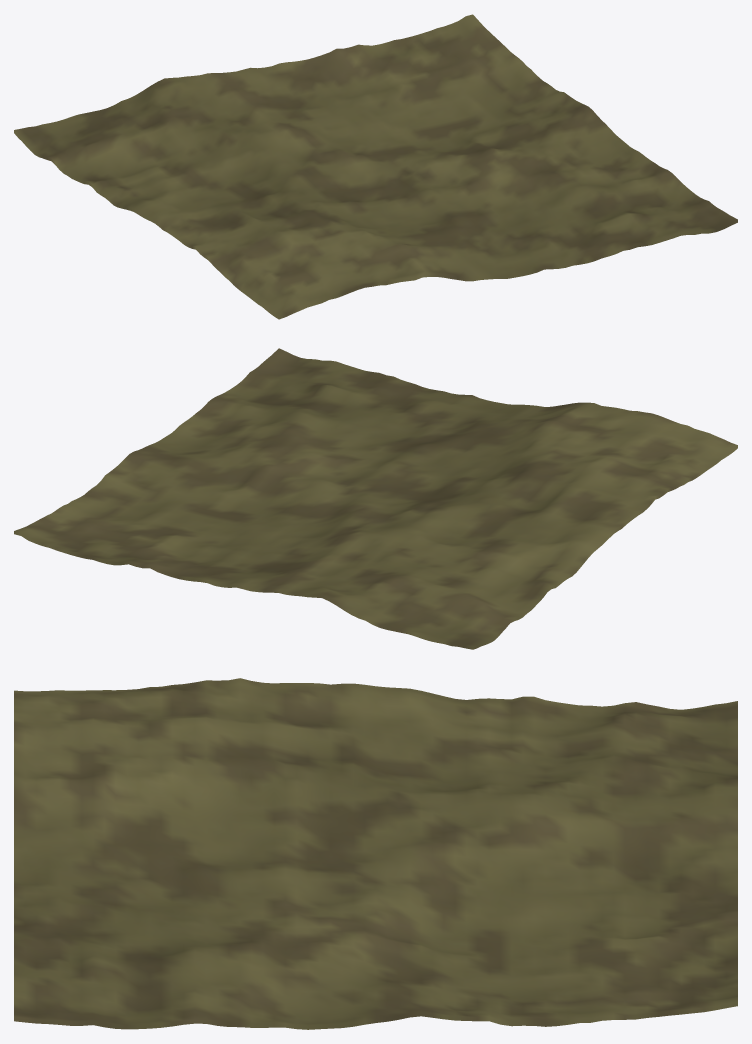
The model's file is land_f_03_01.glb.
3 renders of one model, top to bottom at view 1: azimuth 30°, elevation 25°; view 2: azimuth 150°, elevation 25°; view 3: azimuth 270°, elevation 25°, orthographic. The views are drawn at different scales.
Parts seen in each view (by area): view 1: land_f_03_01; view 2: land_f_03_01; view 3: land_f_03_01.
Boxes of the visible parts, box(x1,y1,x2,y2) form: land_f_03_01: box(14, 14, 737, 319); land_f_03_01: box(14, 348, 737, 649); land_f_03_01: box(14, 678, 737, 1029).
Size of the model in its own units: 3840 by 325 by 3840.
